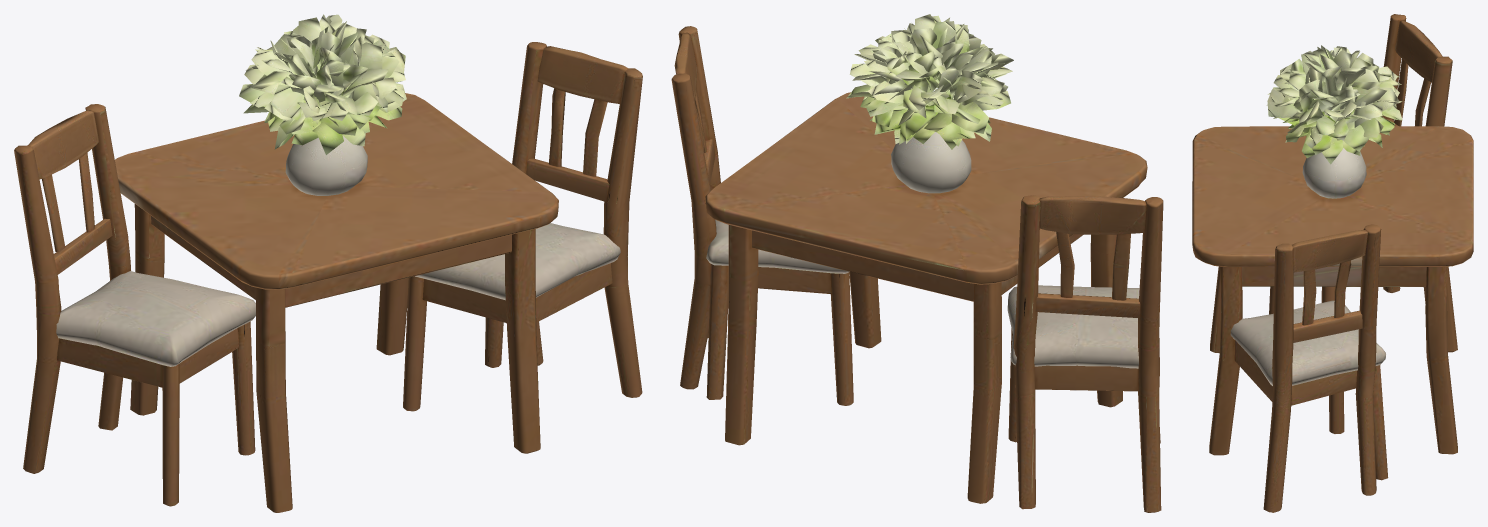
Rendered from dining_set.glb.
The picture shows the model from 3 angles, left to right: view 1: azimuth 30°, elevation 25°; view 2: azimuth 150°, elevation 25°; view 3: azimuth 270°, elevation 25°; orthographic projection. The views are drawn at different scales.
Parts seen in each view (by area): view 1: geometry_0; view 2: geometry_0; view 3: geometry_0.
Boxes of the visible parts, left/top/right/bottom form: geometry_0: left=14, top=14, right=642, bottom=512; geometry_0: left=671, top=14, right=1163, bottom=512; geometry_0: left=1192, top=14, right=1473, bottom=512.
Size of the model in its own units: 1 by 0.7108 by 0.5191.
Materials: 1 (1 with a texture image).
